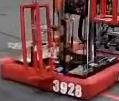red_number: (51, 78, 84, 98)
